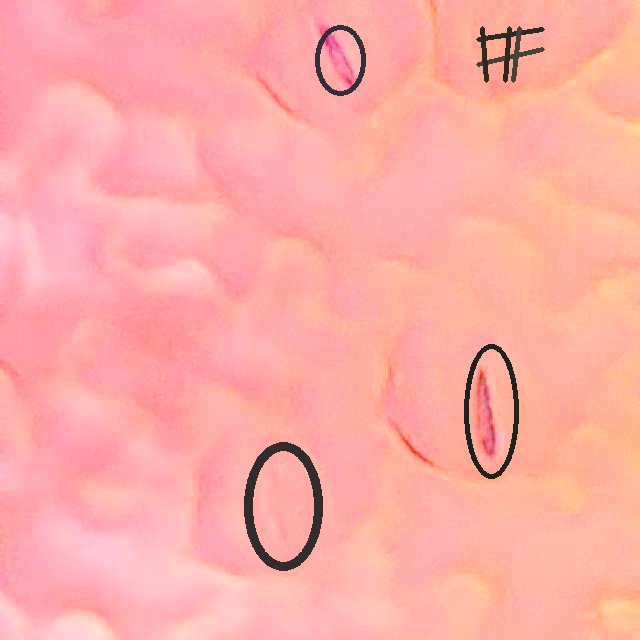close: (243, 441, 323, 570)
open: (463, 343, 518, 479), (476, 26, 544, 82), (314, 24, 366, 97)
